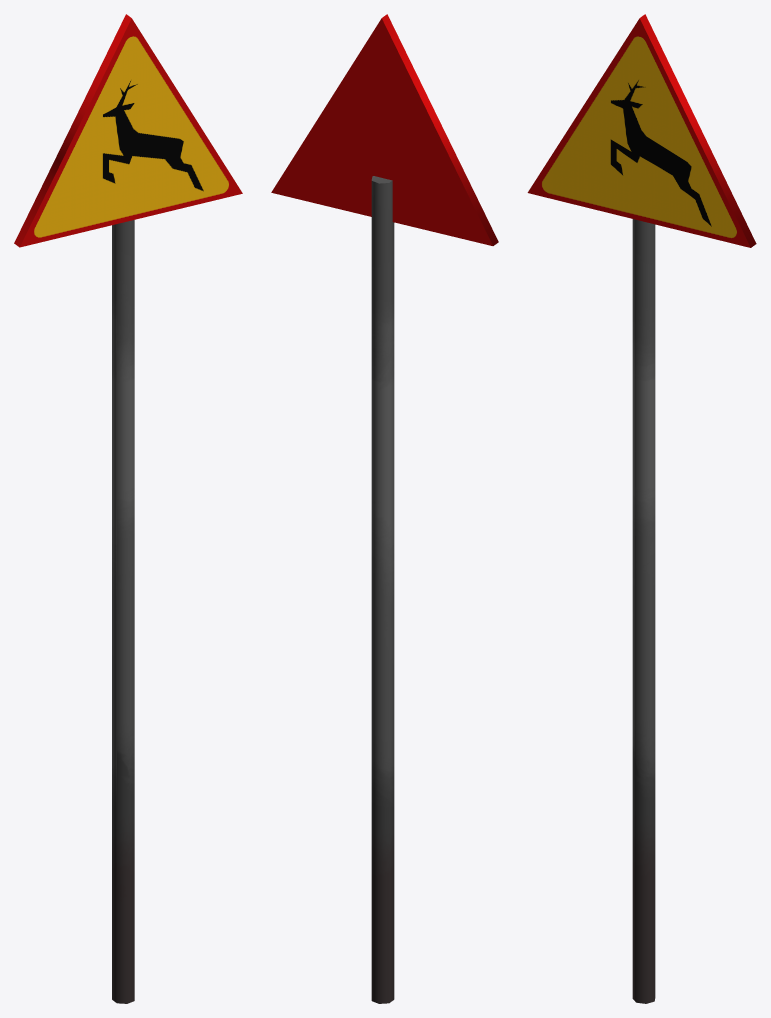
The model's file is 3_jelen.FBX.
3 renders of one model, left to right at view 1: azimuth 30°, elevation 25°; view 2: azimuth 150°, elevation 25°; view 3: azimuth 330°, elevation 25°, orthographic.
Parts seen in each view (by area): view 1: Cylinder002, Cylinder001; view 2: Cylinder002, Cylinder001; view 3: Cylinder002, Cylinder001.
Boxes of the visible parts, x1,y1,x2,y2 form: Cylinder002: (14, 14, 242, 247); Cylinder001: (112, 220, 134, 1003); Cylinder002: (271, 14, 498, 245); Cylinder001: (371, 176, 394, 1003); Cylinder002: (527, 14, 756, 247); Cylinder001: (632, 219, 655, 1003).
Size of the model in its own units: 652 by 2748 by 61.86.
